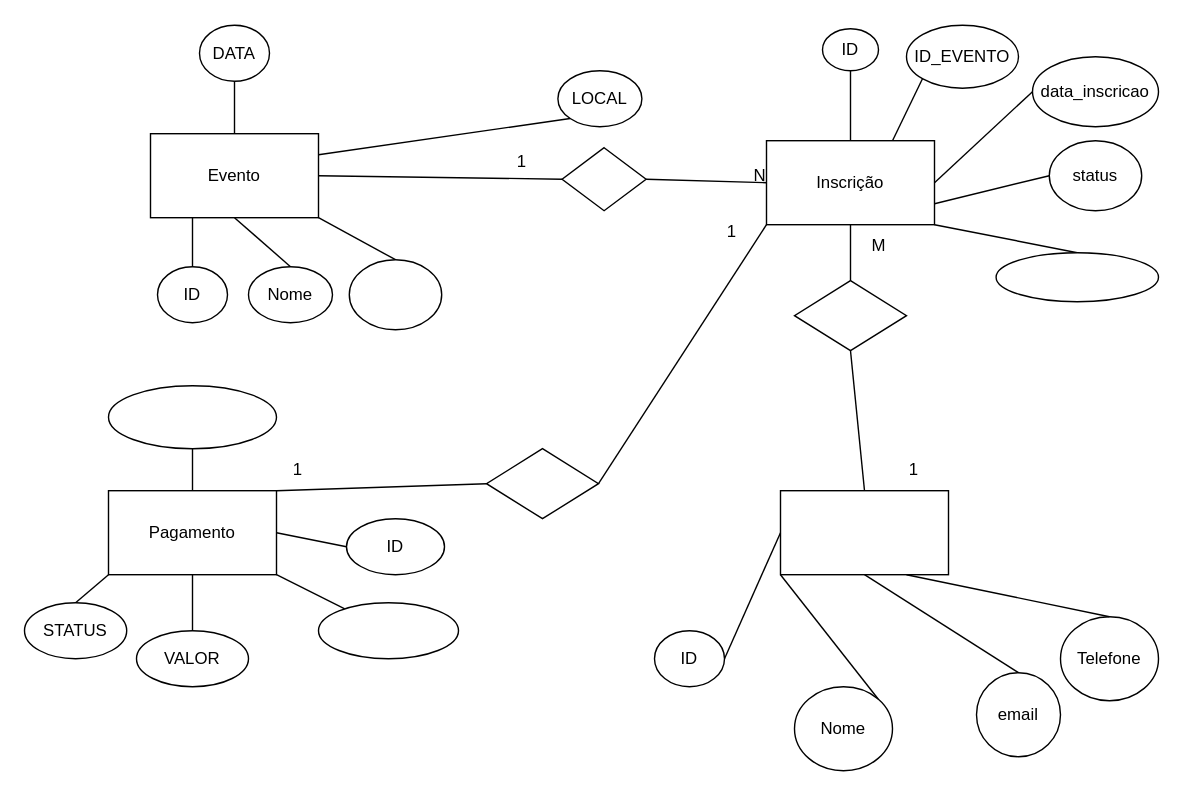
Image size: 1183x795. Some labels were removed from this diagram. The shapes that lost their labels are listed below. From the top down, each one's centre as x and y in pixels, then its label:
At (x=603, y=178): "Possui".
At (x=395, y=294): "Descrição".
At (x=1076, y=276): "ID_PARTICIPANTE".
At (x=849, y=315): "Faz".
At (x=191, y=416): "DATA_PAGAMENTO".
At (x=541, y=483): "Tem".
At (x=863, y=532): "Participante".
At (x=387, y=630): "ID_INSCRICAO".
